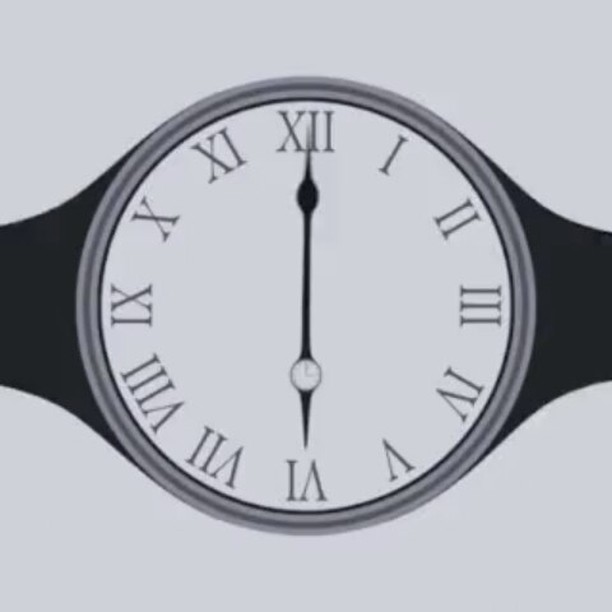clock: (95, 97, 516, 516)
